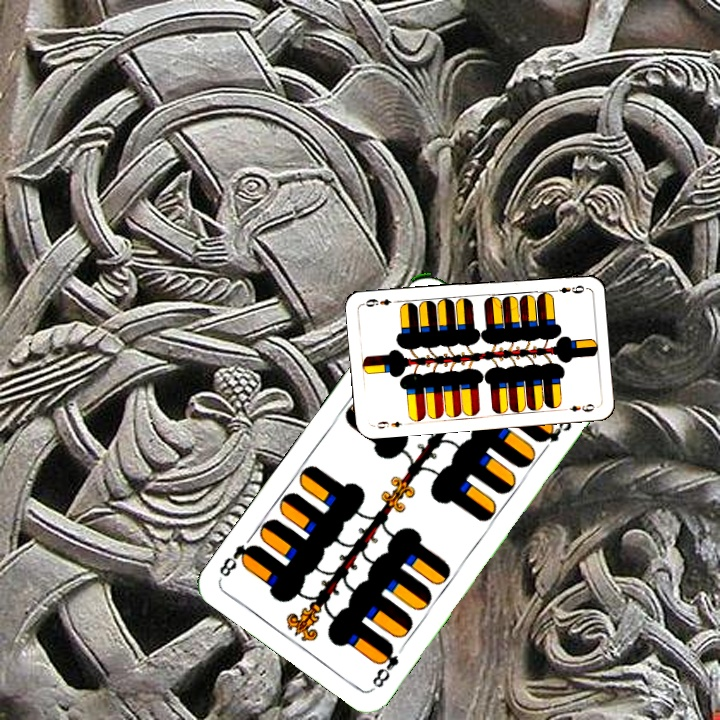E8: (368, 639, 402, 692)
E9: (548, 281, 588, 296), (373, 417, 404, 432)
